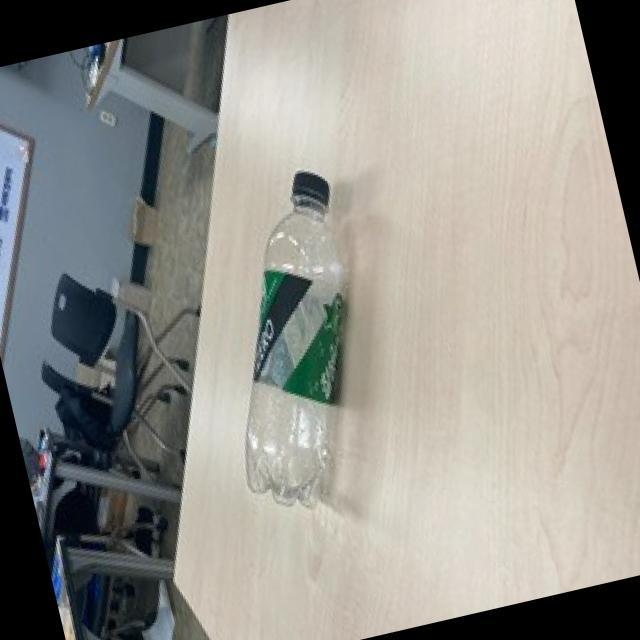good: (169, 155, 417, 528)
